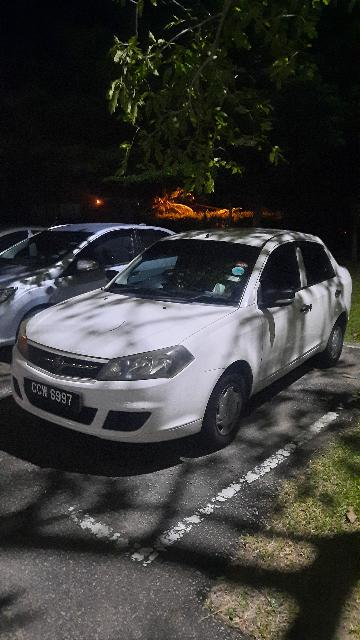License_Plate: (25, 379, 86, 415)
car: (9, 225, 355, 450)
